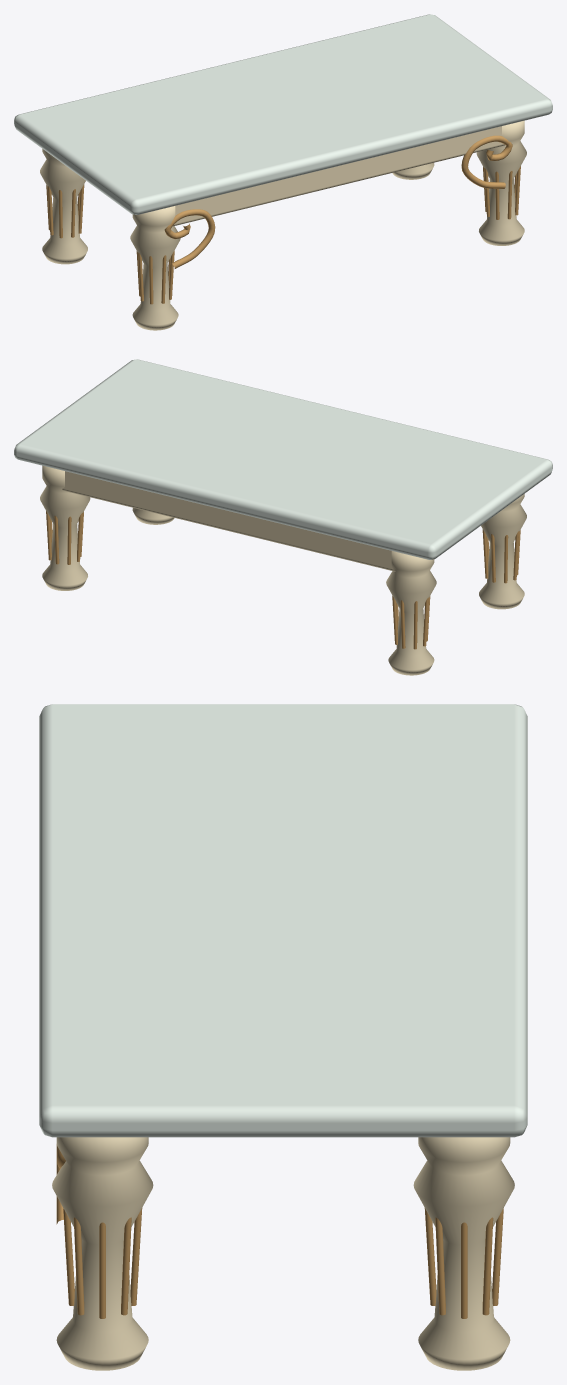
Rendered from coffee_table_palais-99f1f61813ff.glb.
3 views of the same model, one above another, from view 1: azimuth 30°, elevation 25°; view 2: azimuth 150°, elevation 25°; view 3: azimuth 270°, elevation 25° (orthographic). The views are drawn at different scales.
Parts seen in each view (by area): view 1: surface_porcelain, surface_ivory, surface_brass; view 2: surface_porcelain, surface_ivory, surface_brass; view 3: surface_porcelain, surface_ivory, surface_brass.
Boxes of the visible parts, x1=… form: surface_porcelain: x1=14, y1=14, x2=552, y2=214; surface_ivory: x1=40, y1=120, x2=526, y2=330; surface_brass: x1=46, y1=135, x2=520, y2=304; surface_porcelain: x1=14, y1=359, x2=552, y2=559; surface_ivory: x1=40, y1=465, x2=526, y2=675; surface_brass: x1=46, y1=511, x2=520, y2=649; surface_porcelain: x1=39, y1=704, x2=527, y2=1137; surface_ivory: x1=52, y1=1137, x2=514, y2=1370; surface_brass: x1=56, y1=1144, x2=503, y2=1318.
Bounding box in the file's own units: 1.23 × 0.39 × 0.6156.
